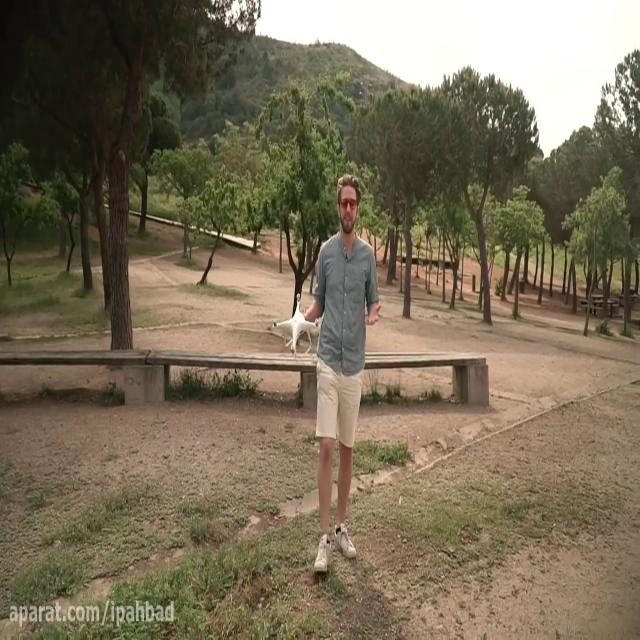drone: (271, 291, 321, 359)
